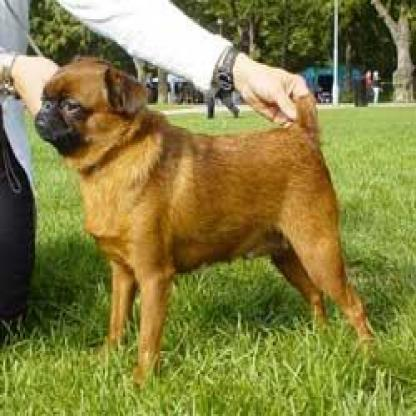Brabancon_griffon: (32, 58, 374, 386)
